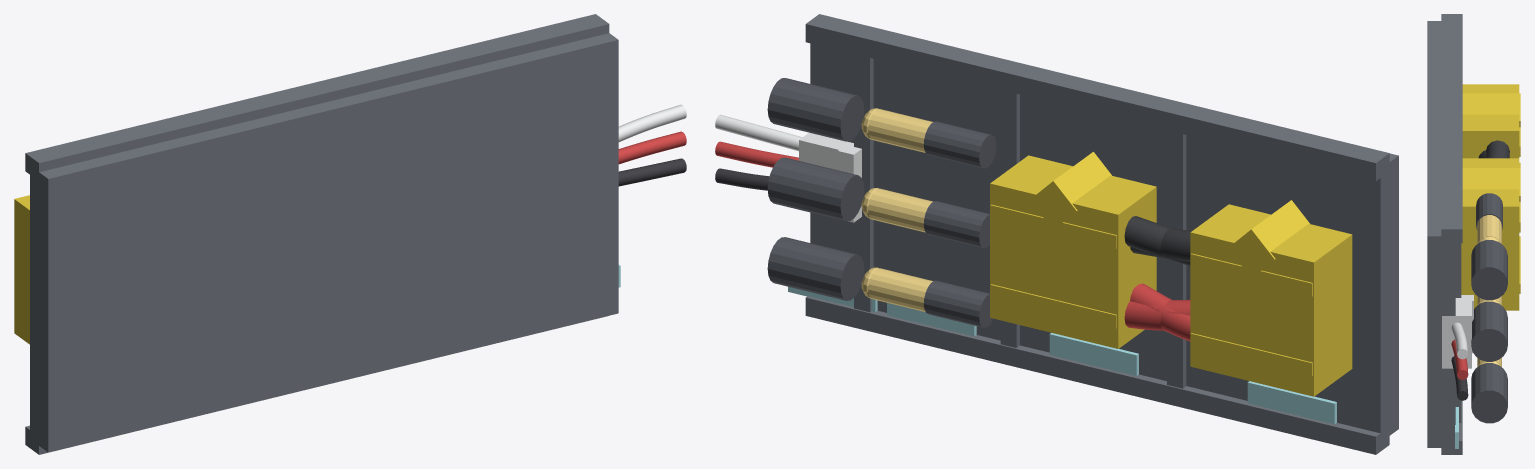
Rendered from conectores.glb.
3 views of the same model, side by side, from view 1: azimuth 30°, elevation 25°; view 2: azimuth 150°, elevation 25°; view 3: azimuth 270°, elevation 25° (orthographic). The views are drawn at different scales.
Visible parts, largest first — view 1: Conectores; view 2: Conectores; view 3: Conectores.
Boxes of the visible parts, x1=… form: Conectores: x1=14, y1=14, x2=686, y2=454; Conectores: x1=715, y1=14, x2=1398, y2=454; Conectores: x1=1427, y1=14, x2=1520, y2=454.
Bounding box in the file's own units: 0.0831 × 0.0352 × 0.0132.
